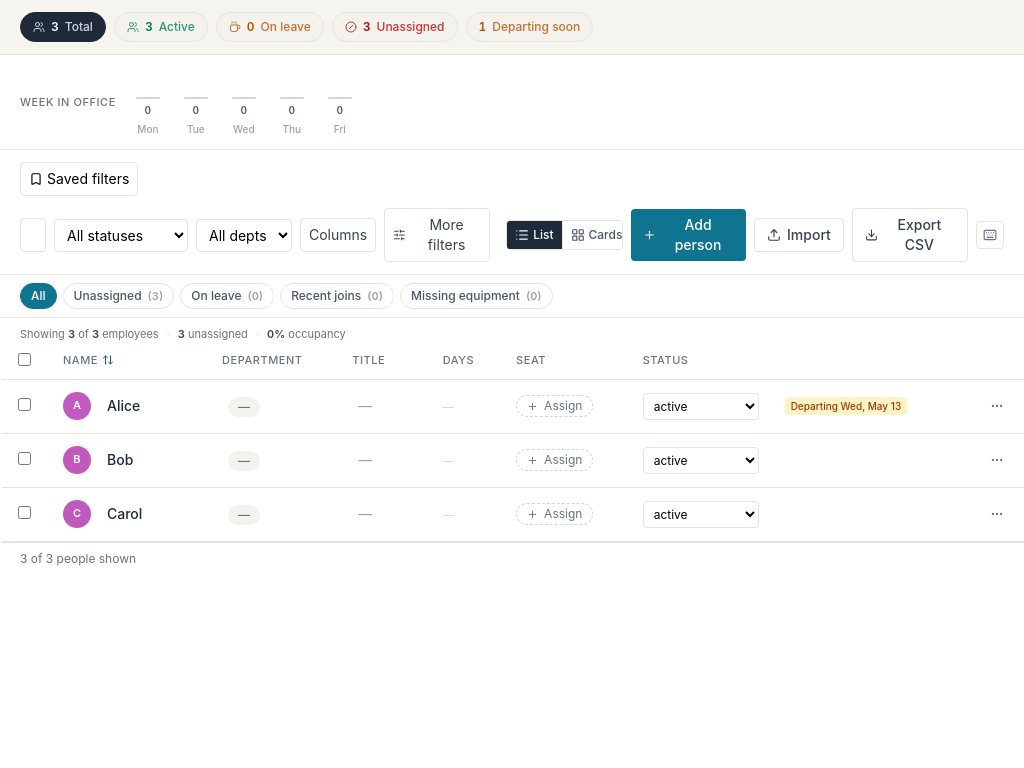
Test: Scheduled departure › "Departing soon" filter chip narrows the table to upcoming departures within 30 days
Click the button "1 Departing soon": (529, 27) x1=466 y1=12 x2=593 y2=42
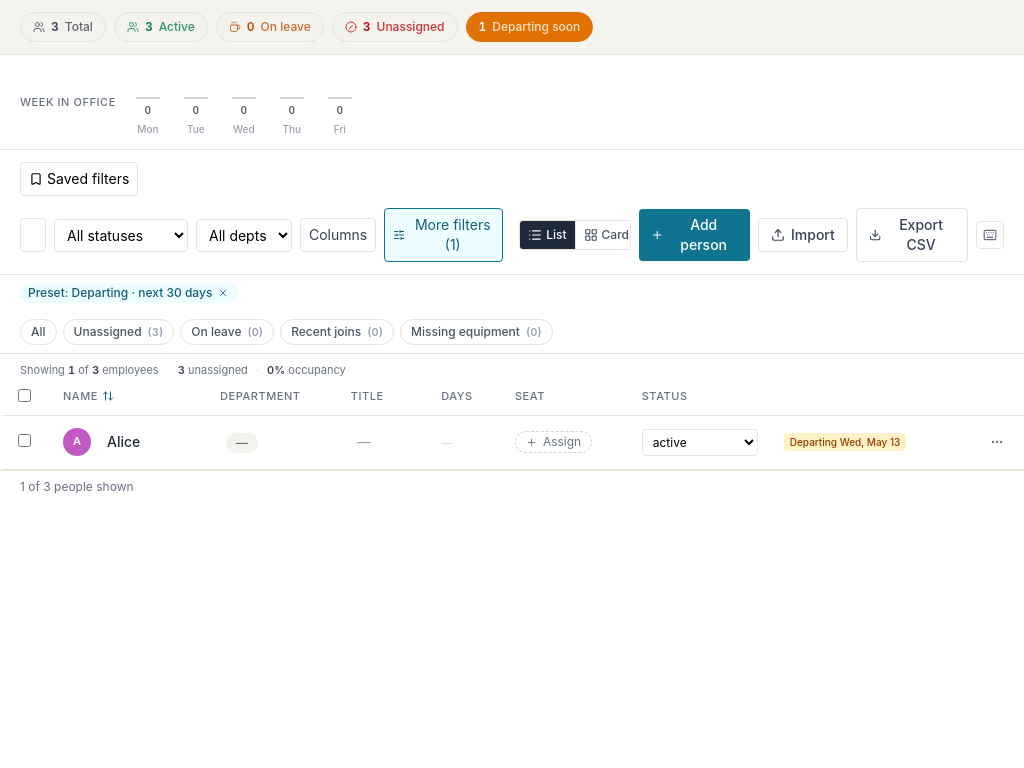
Check: the button "Alice" is shown, box x1=101 y1=428 x2=168 y2=456
Check: the button "Bob" is gone
Check: the button "Carol" is gone
